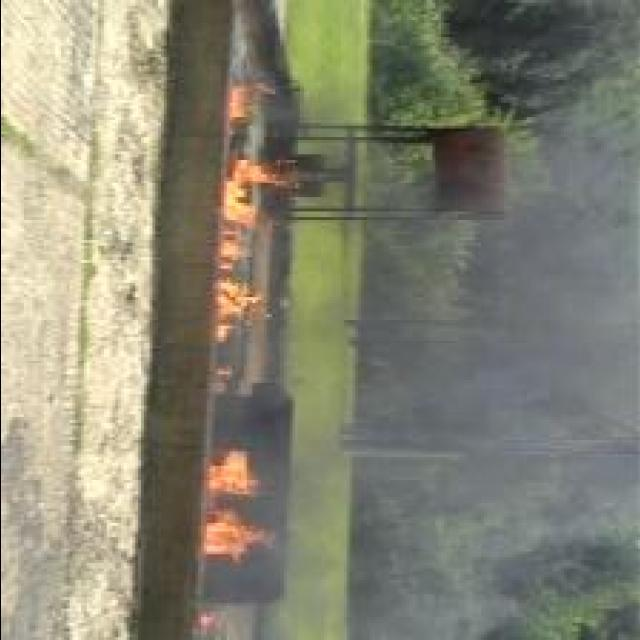Fire: (217, 158, 297, 342), (207, 448, 273, 496), (205, 512, 272, 558)
